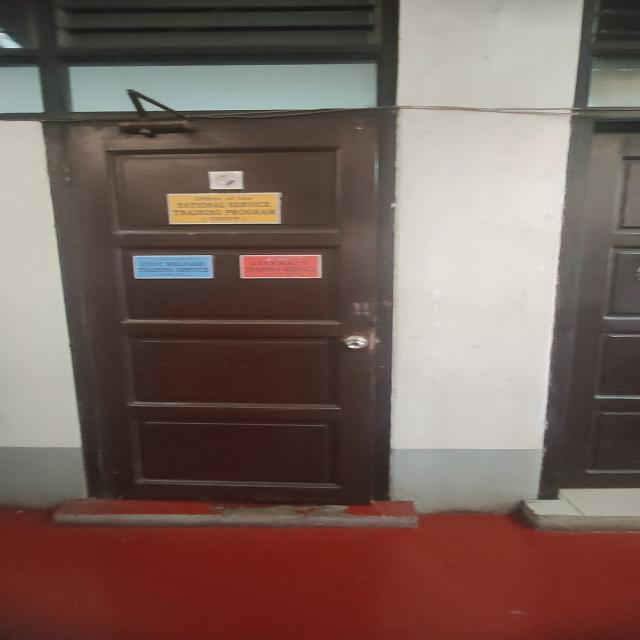door: (56, 117, 387, 501)
